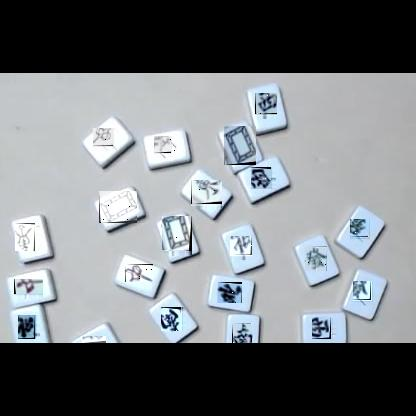1z: (191, 181, 222, 209), (16, 223, 40, 251)
2z: (162, 307, 186, 331), (232, 323, 252, 343), (81, 336, 106, 343)
3z: (255, 94, 277, 119), (252, 167, 276, 189), (313, 317, 336, 339)
4z: (217, 282, 242, 303), (230, 237, 252, 260), (19, 315, 40, 339)
5z: (224, 126, 256, 165), (99, 191, 137, 223), (162, 217, 192, 256)
6z: (305, 246, 327, 271), (354, 282, 376, 305), (351, 220, 373, 242), (155, 137, 176, 158)
7z: (14, 280, 43, 299), (94, 129, 118, 151), (125, 264, 153, 282)
